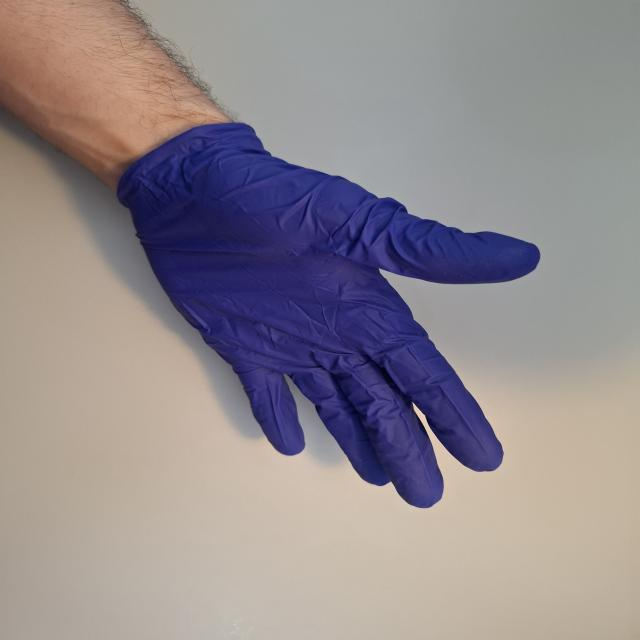glove_on: (115, 117, 544, 511)
